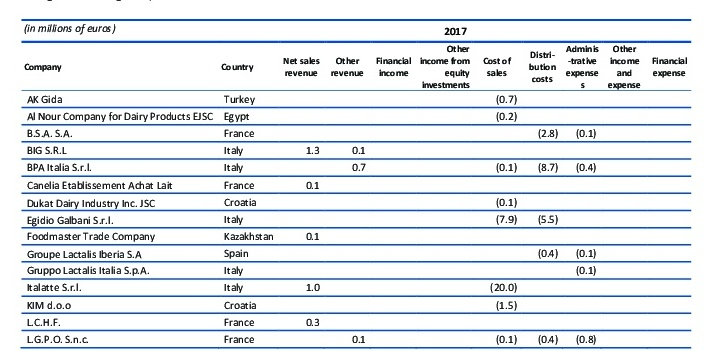table: (0, 0, 711, 364)
